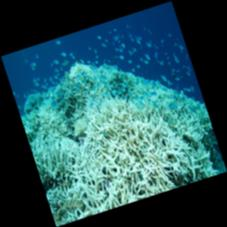bleached_corals: (10, 29, 227, 226)
